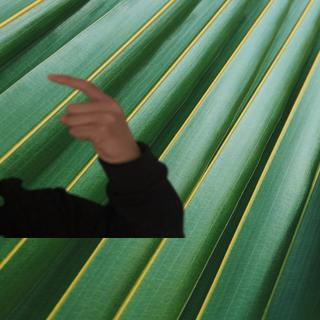WHY: (39, 67, 138, 161)
